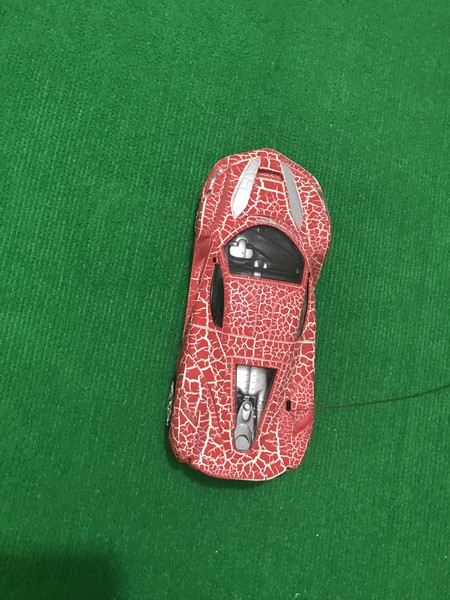RC: (162, 148, 335, 486)
